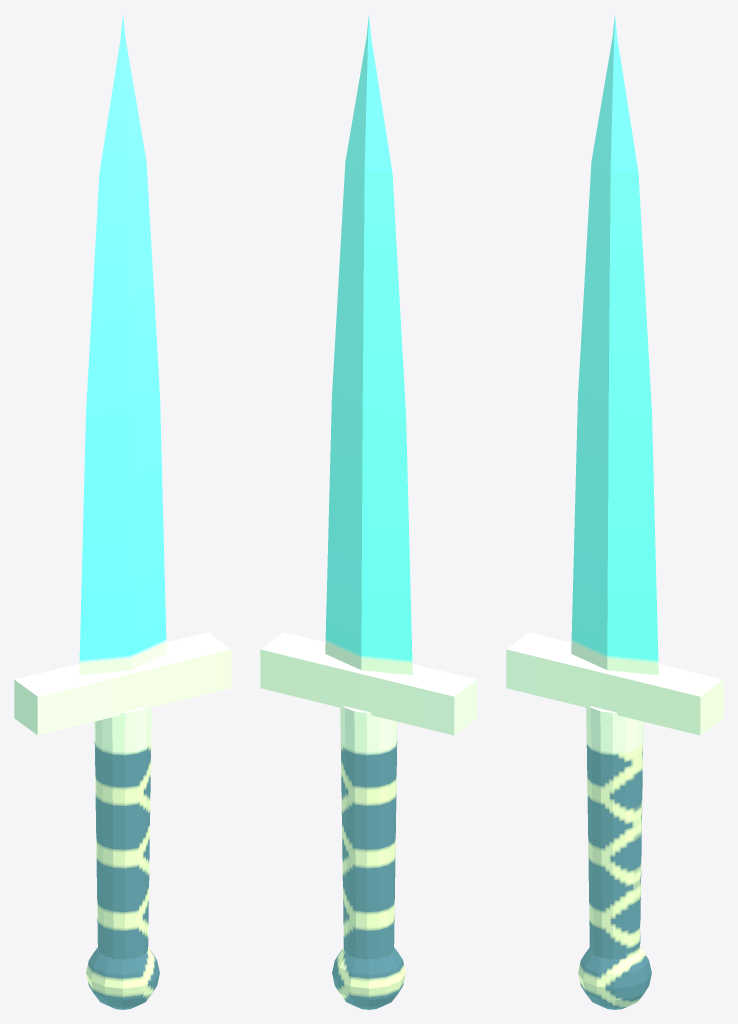
The model's file is aether-blade.glb.
3 views of the same model, side by side, from view 1: azimuth 30°, elevation 25°; view 2: azimuth 150°, elevation 25°; view 3: azimuth 330°, elevation 25° (orthographic).
Visible parts, largest first — view 1: TS_Prop_aether-blade; view 2: TS_Prop_aether-blade; view 3: TS_Prop_aether-blade.
Boxes of the visible parts, <box> form: TS_Prop_aether-blade: <box>14,16,231,1009</box>; TS_Prop_aether-blade: <box>260,16,477,1009</box>; TS_Prop_aether-blade: <box>506,16,723,1009</box>.
Bounding box in the file's own units: 0.115 × 0.563 × 0.038.
1 material, 1 textured.
